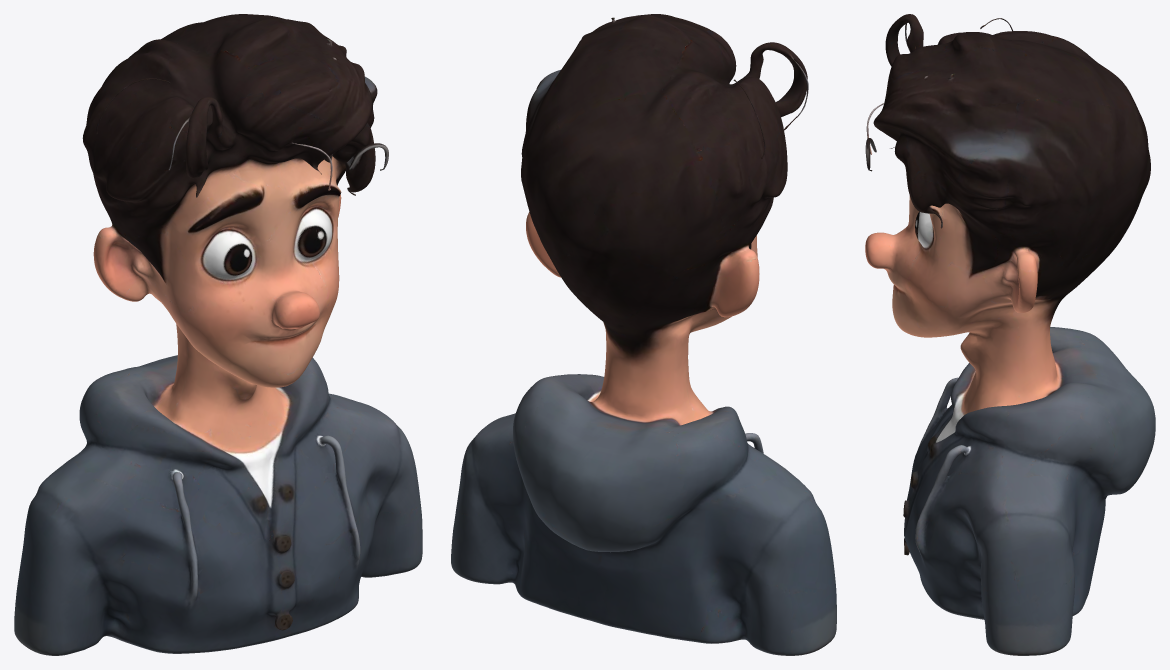
File: avatar.glb
The picture shows the model from 3 angles, left to right: view 1: azimuth 30°, elevation 25°; view 2: azimuth 150°, elevation 25°; view 3: azimuth 270°, elevation 25°; orthographic projection. The views are drawn at different scales.
Bounding box in the file's own units: 1.31 × 1.9 × 0.9169.
1 material, 1 textured.
